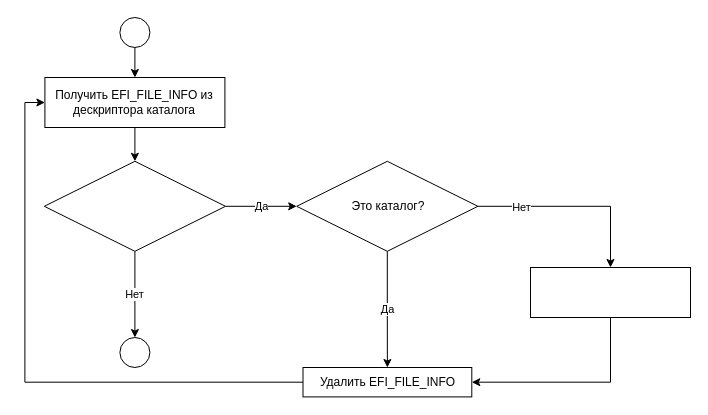
Some shapes in this 708 by 415 pixel diagram are drawn without their labels. The shapes that lost their labels are listed below. From the top down, each one's centre as x and y in pixels, then its label:
At point (134, 205): "Есть ли еще элементы в каталоге?".
At point (610, 292): "Открываем файл на чтение и запись асинхронно".
